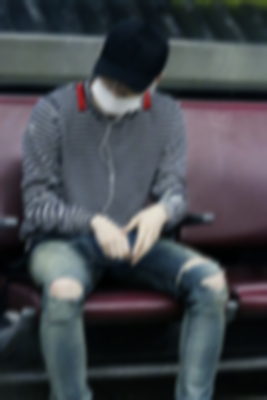mask_weared_incorrect: (88, 77, 150, 117)
